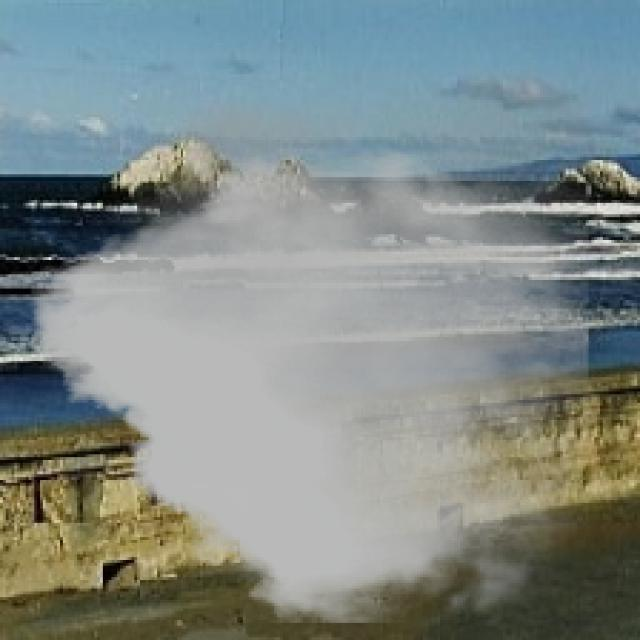Smoke: (31, 89, 588, 632)
